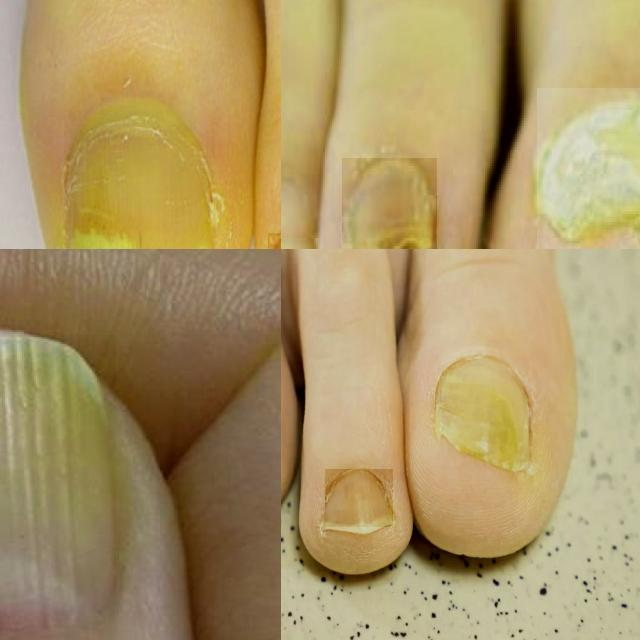diabetes: (0, 336, 116, 640), (66, 110, 215, 249), (538, 88, 640, 238), (436, 358, 530, 471), (342, 159, 437, 249), (281, 174, 314, 249)
sehat: (326, 469, 393, 527)
